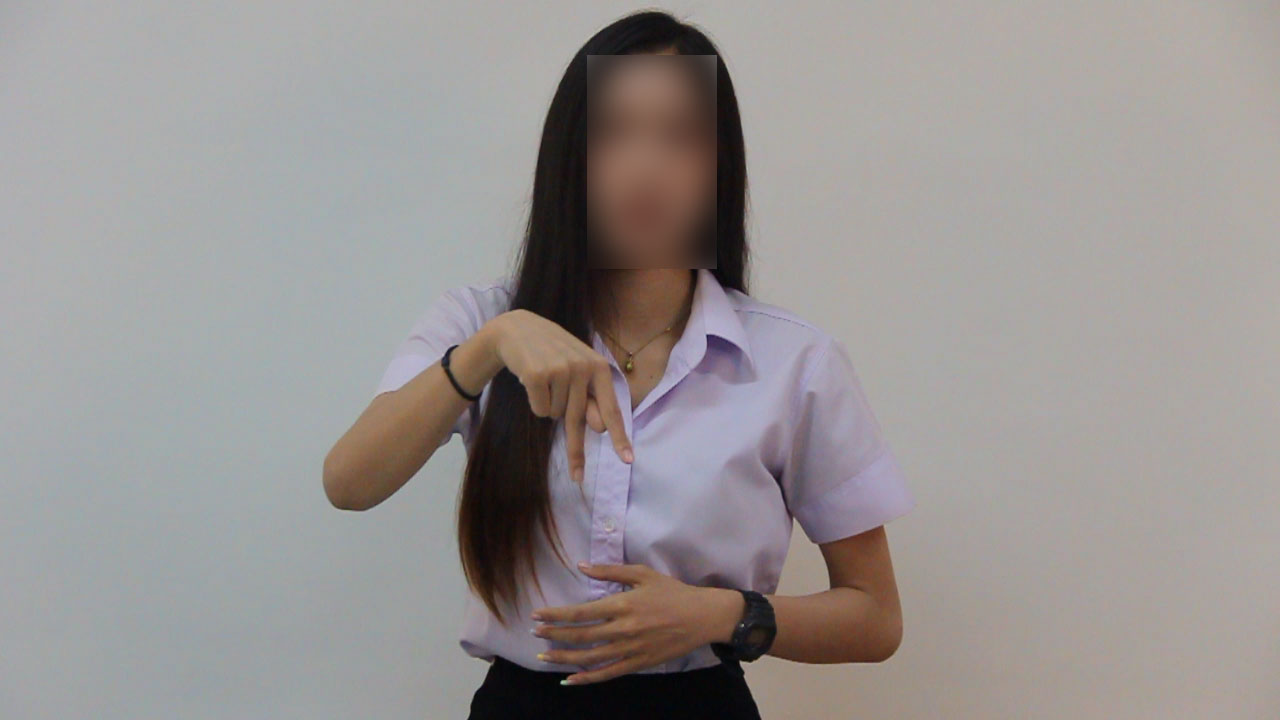por: (480, 286, 642, 495)
